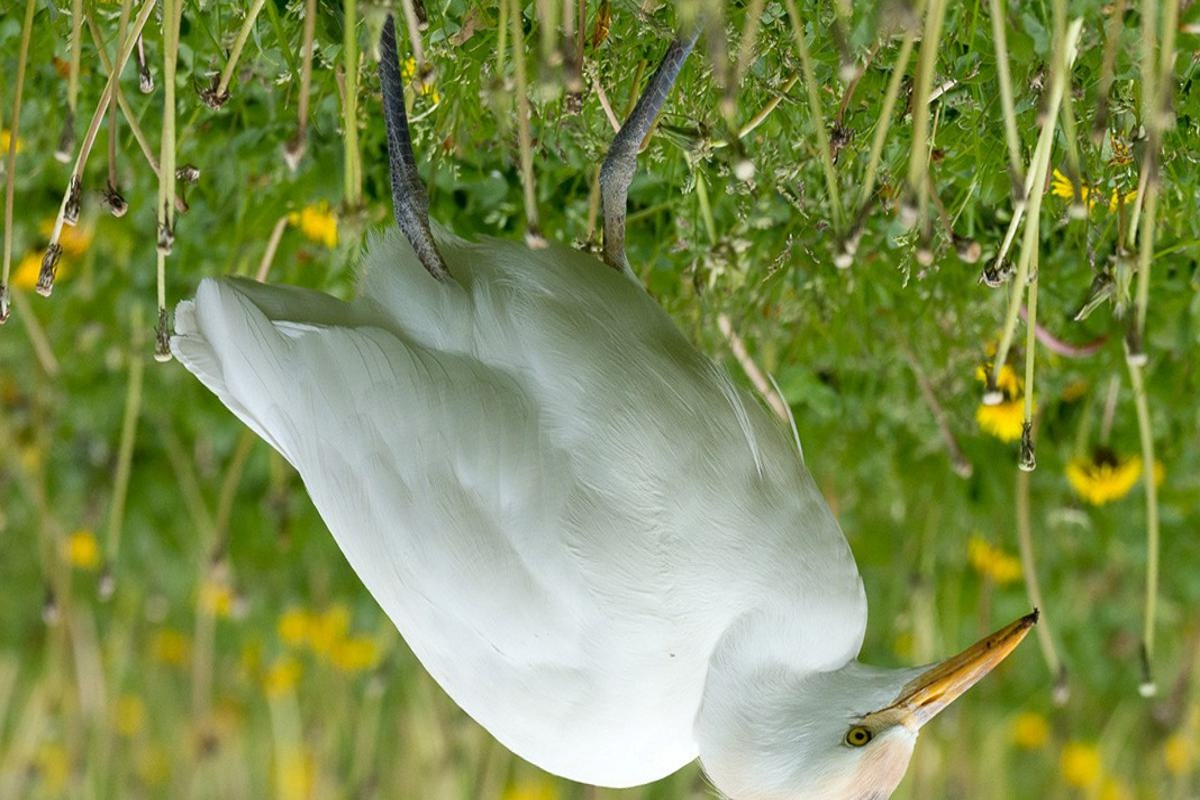egret: (180, 30, 1041, 800)
